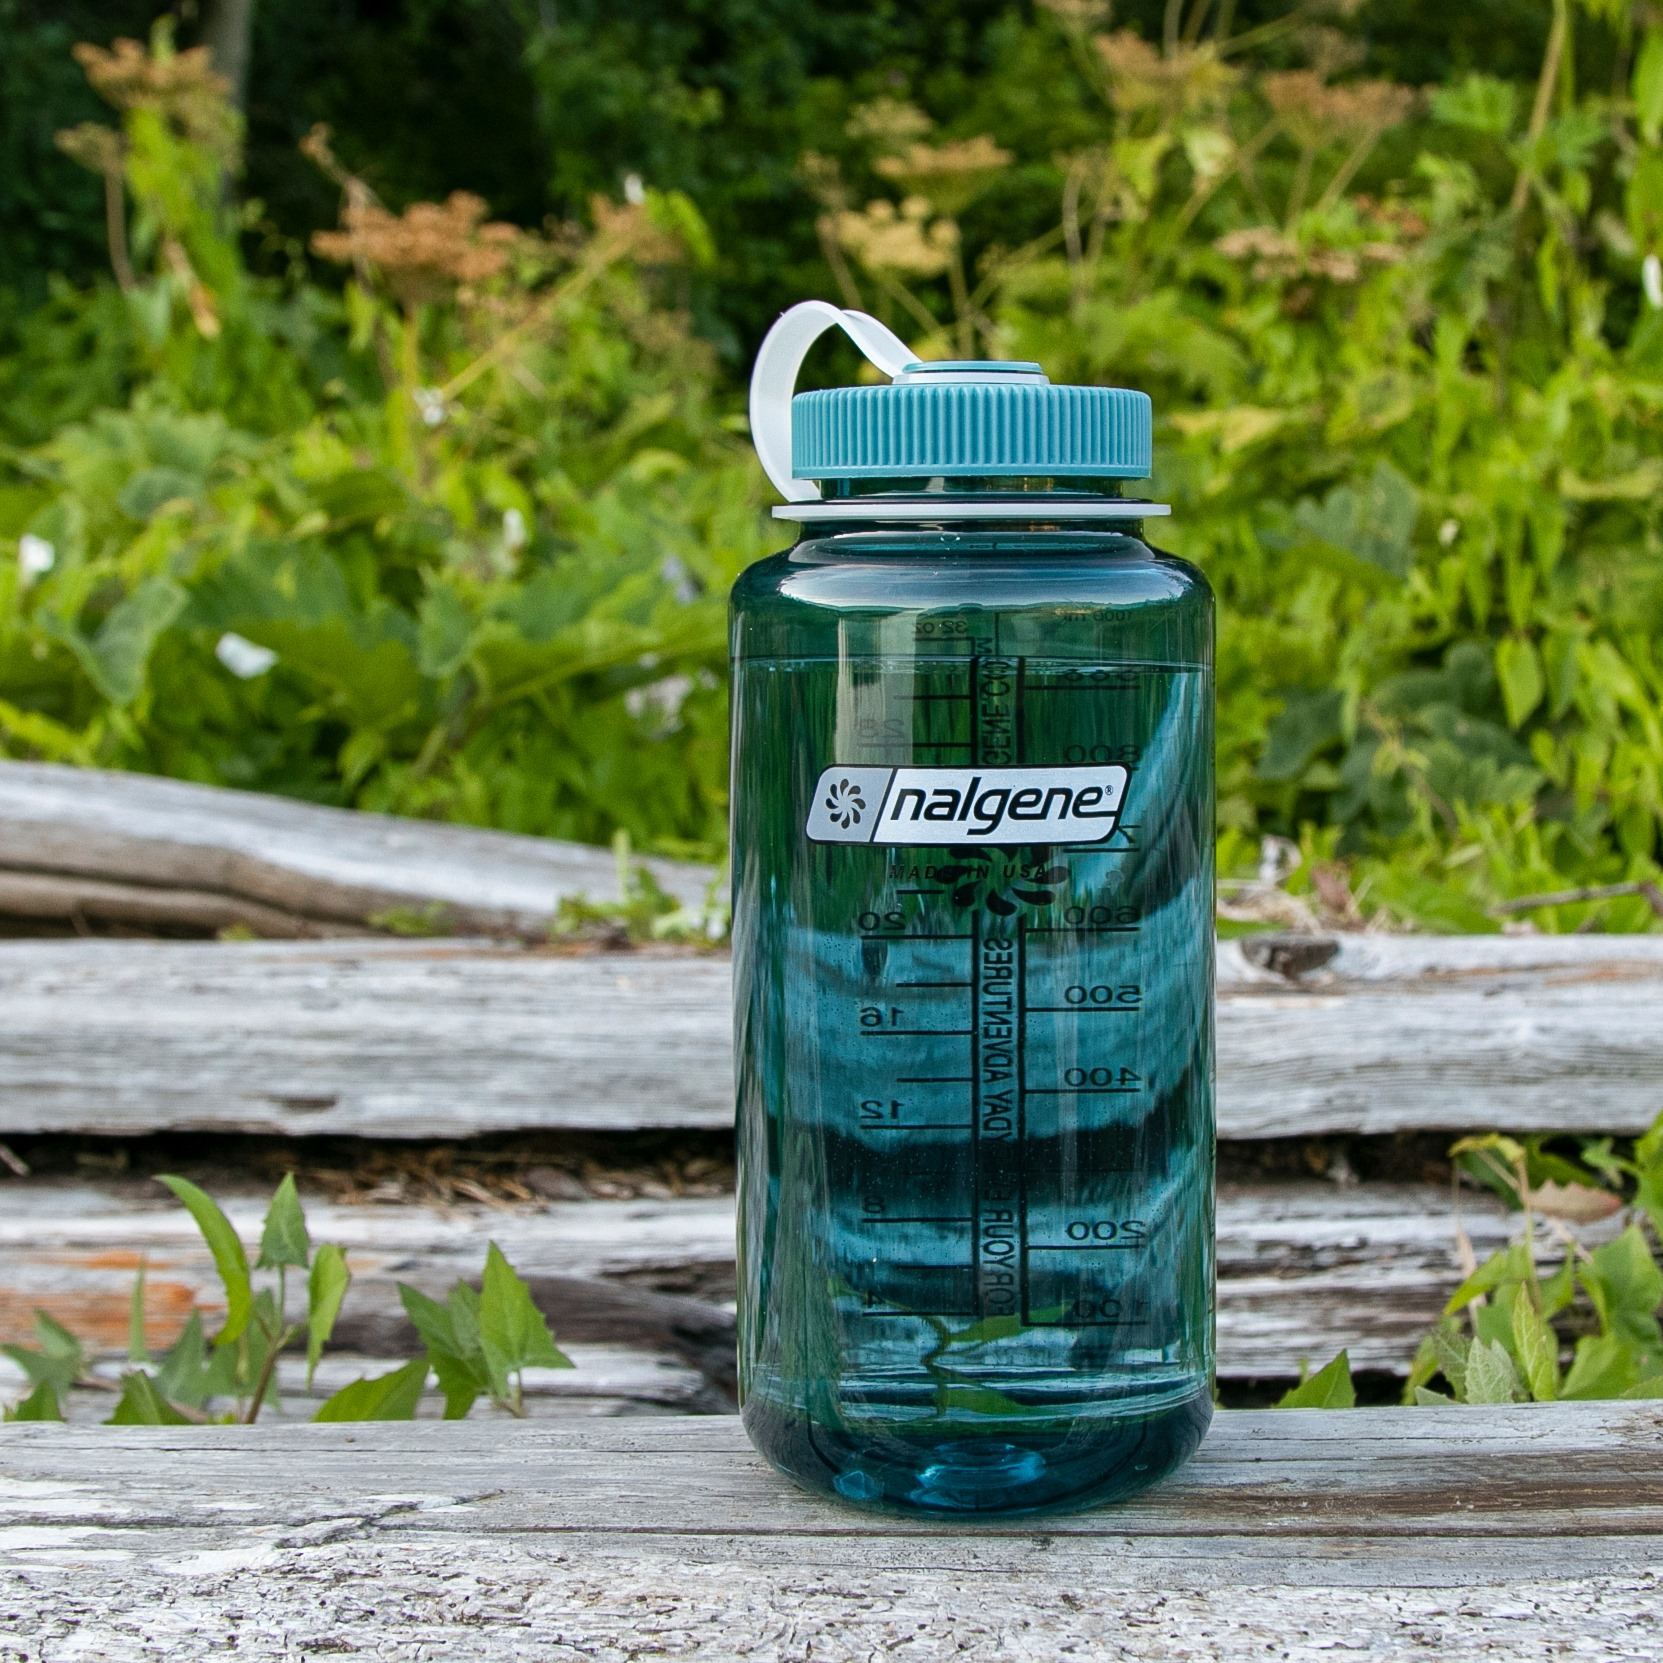waterbottle: (723, 292, 1220, 1527)
